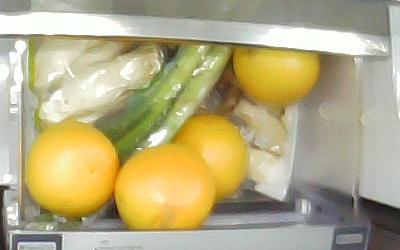grapefruit: (25, 119, 119, 215), (113, 142, 216, 228), (171, 112, 247, 201), (231, 46, 319, 105)
